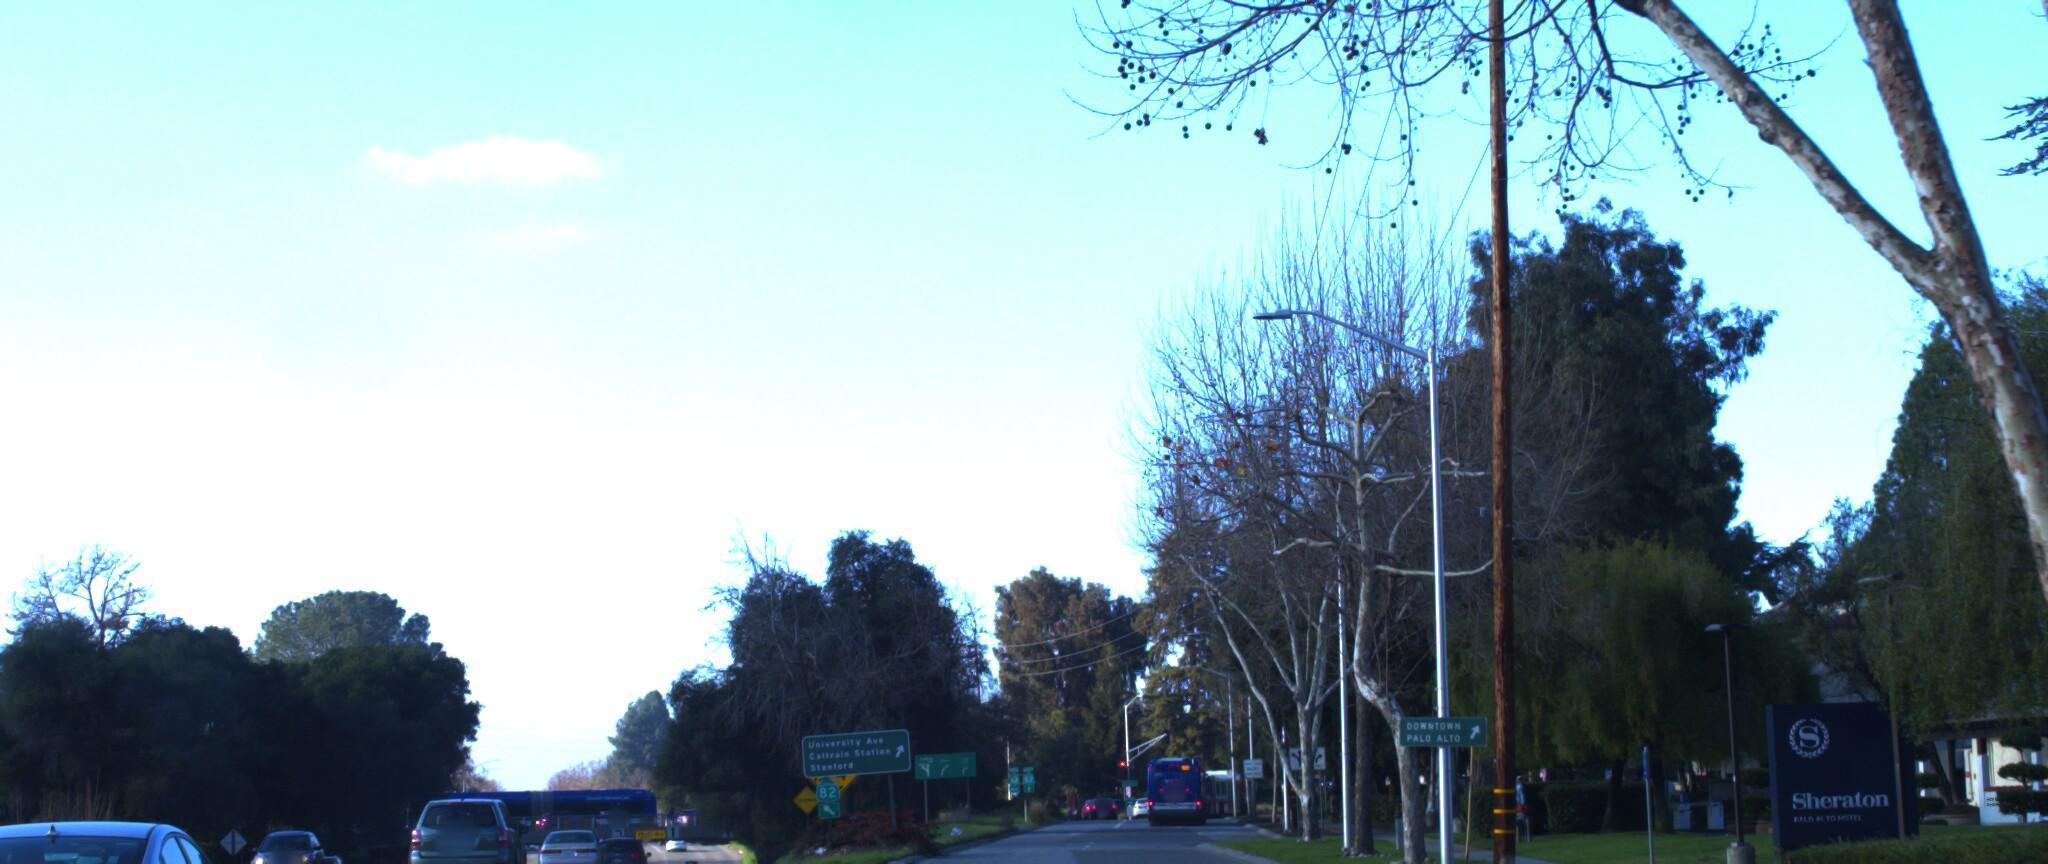car: (0, 803, 256, 864), (408, 786, 532, 864), (526, 814, 603, 864)
